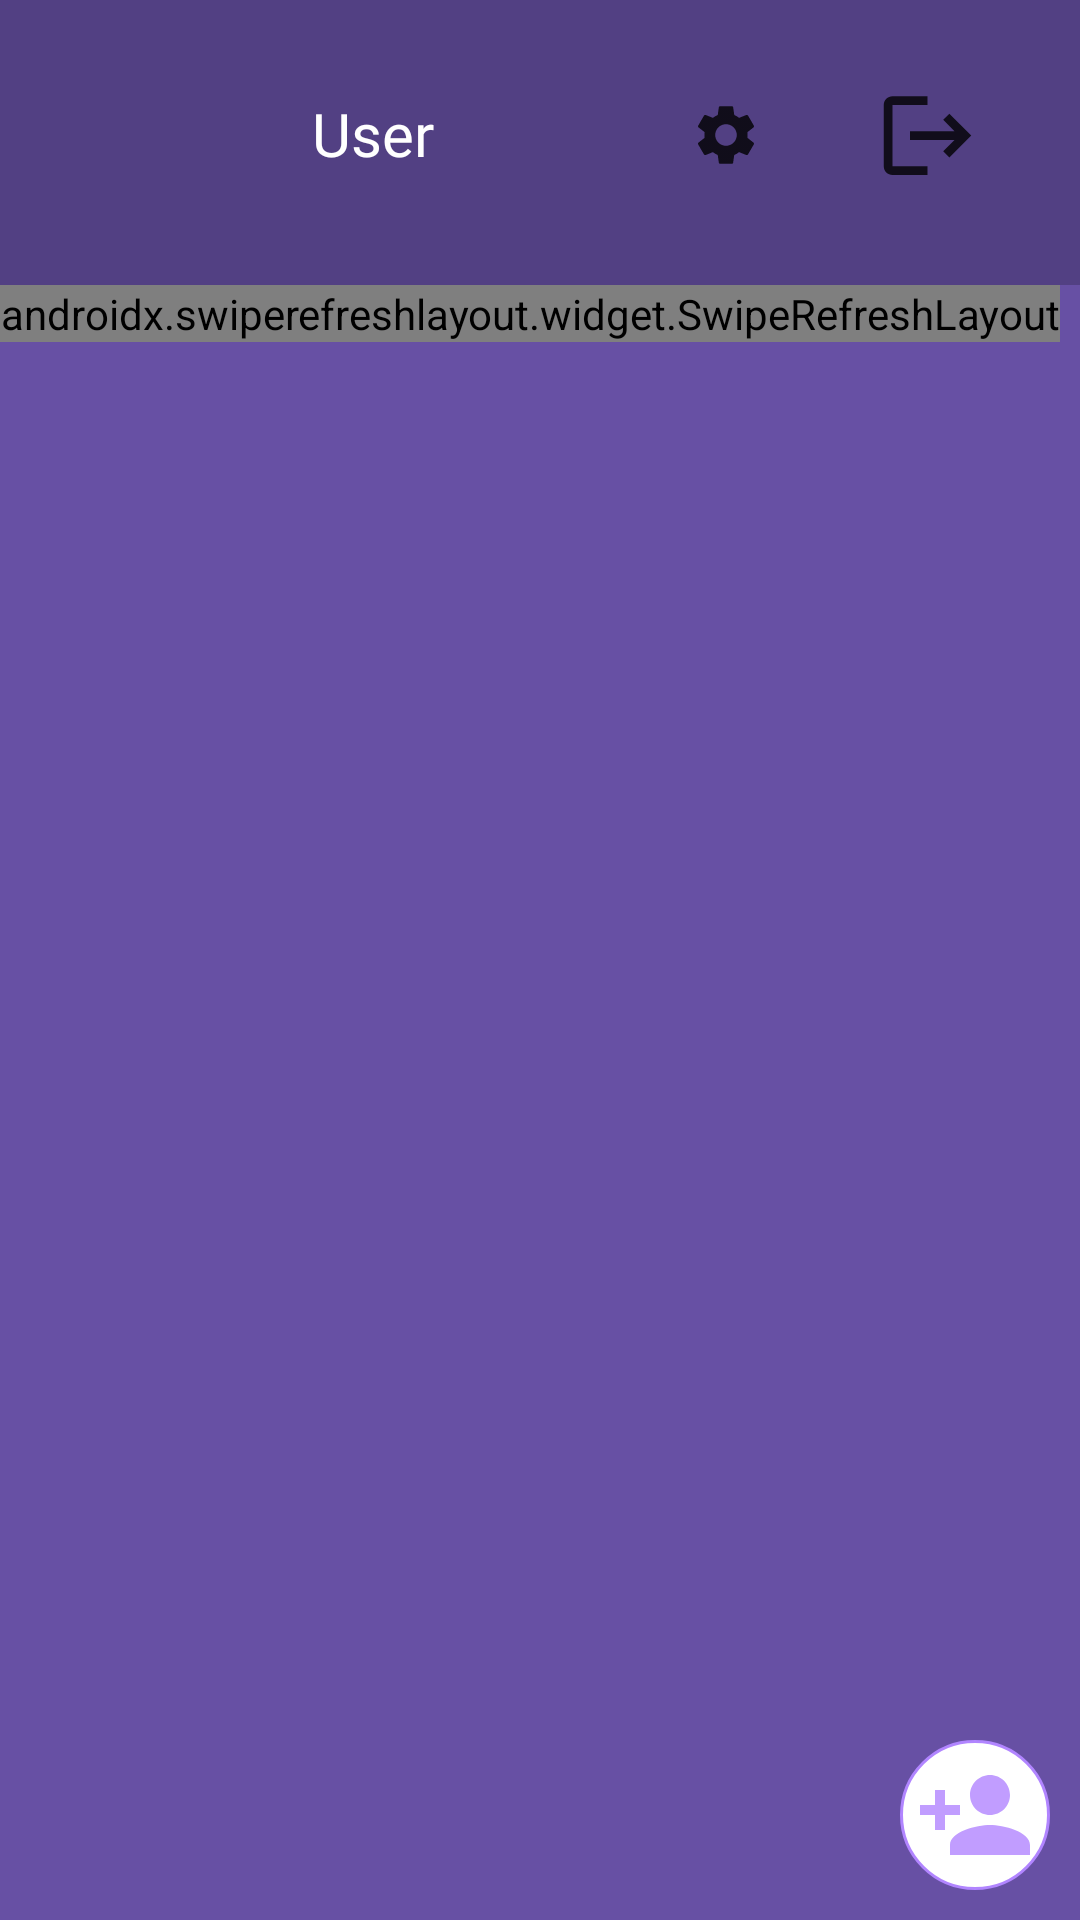

Icon bounding boxes for this 1080 x 1920 phone screenshot, format bbox(x1, y1, x2, y2):
settings: bbox(698, 106, 754, 164)
